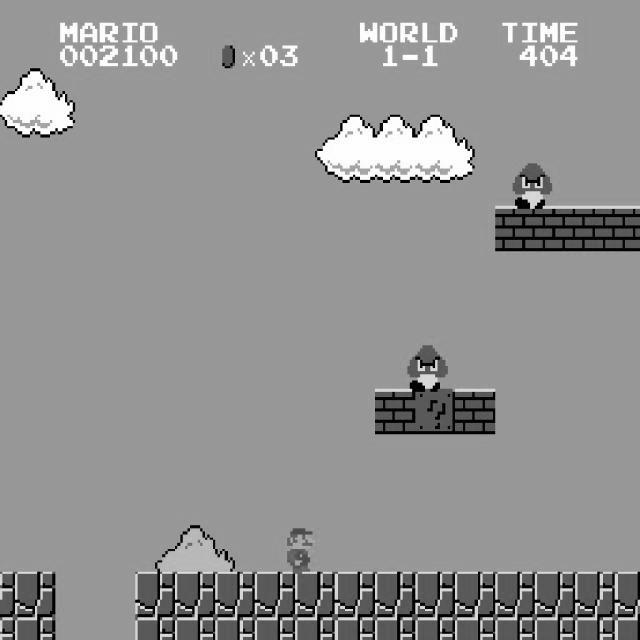1- brick_block: (374, 388, 416, 434), (454, 388, 496, 434), (494, 206, 536, 251), (534, 206, 576, 251), (574, 206, 616, 251), (614, 205, 640, 251)
11- little_mario: (277, 526, 320, 574)
13- mystery_block: (414, 388, 456, 434)
17- undestructible_block: (134, 572, 176, 618), (174, 572, 216, 618), (214, 572, 256, 618), (254, 572, 296, 618), (294, 572, 336, 618), (334, 572, 376, 618), (374, 572, 416, 618), (414, 572, 456, 618), (454, 572, 496, 618), (494, 572, 536, 618), (534, 572, 576, 618), (574, 572, 616, 618), (15, 572, 56, 618), (614, 571, 640, 617), (134, 617, 176, 640), (174, 617, 216, 640), (214, 617, 256, 640), (254, 617, 296, 640), (294, 617, 336, 640), (334, 617, 376, 640), (374, 617, 416, 640), (414, 617, 456, 640), (454, 617, 496, 640), (494, 617, 536, 640), (534, 617, 576, 640), (574, 617, 616, 640), (15, 617, 56, 640), (0, 572, 15, 618), (614, 617, 640, 639), (0, 617, 15, 640)
8- goomba: (405, 343, 448, 391), (510, 160, 552, 208)
